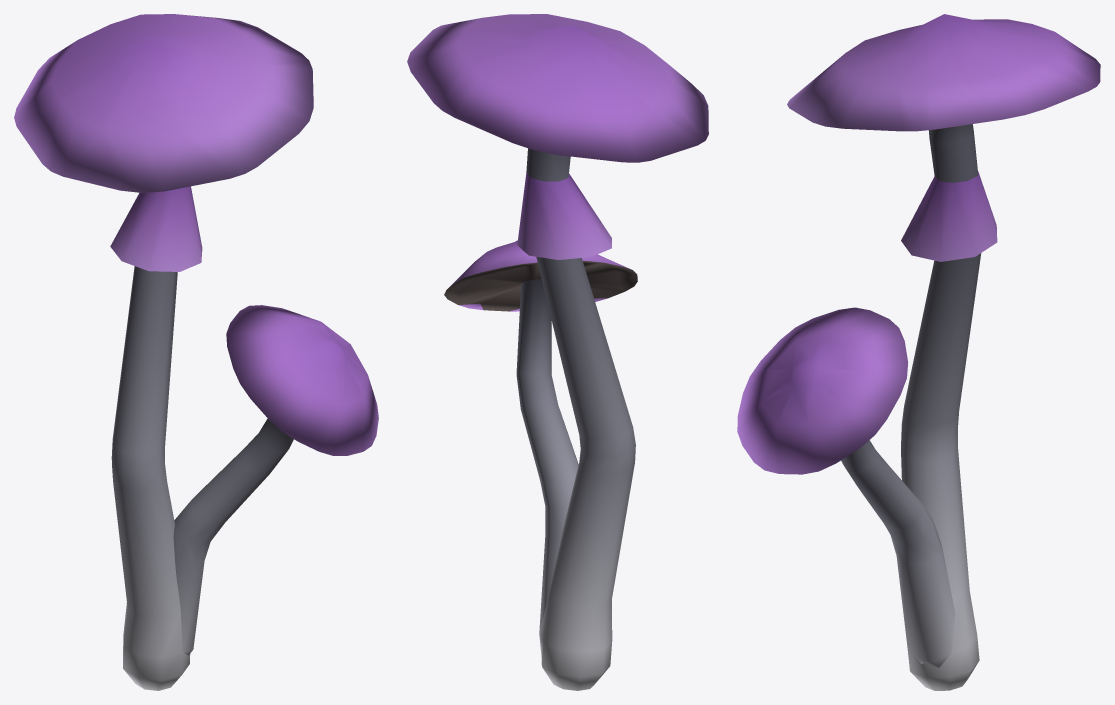
Rendered from Stage3_Red mushroom low_poly.fbx.
The picture shows the model from 3 angles, left to right: view 1: azimuth 30°, elevation 25°; view 2: azimuth 150°, elevation 25°; view 3: azimuth 270°, elevation 25°; orthographic projection. The views are drawn at different scales.
Parts seen in each view (by area): view 1: Redmushroom_lowpoly; view 2: Redmushroom_lowpoly; view 3: Redmushroom_lowpoly.
Boxes of the visible parts, x1,y1,x2,y2 form: Redmushroom_lowpoly: (14, 14, 378, 690); Redmushroom_lowpoly: (407, 14, 708, 690); Redmushroom_lowpoly: (737, 14, 1100, 690).
Bounding box in the file's own units: 1.28 × 2.79 × 1.37.
